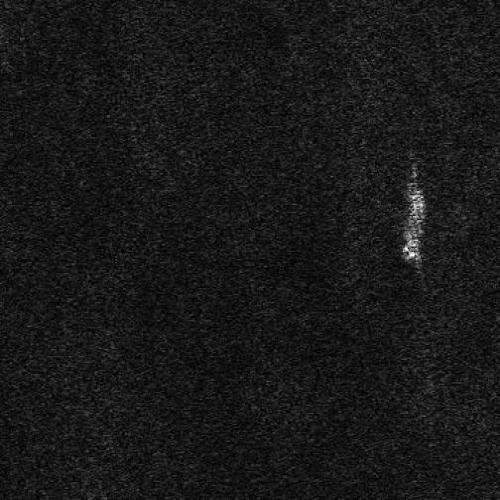ship: (402, 191, 427, 263)
